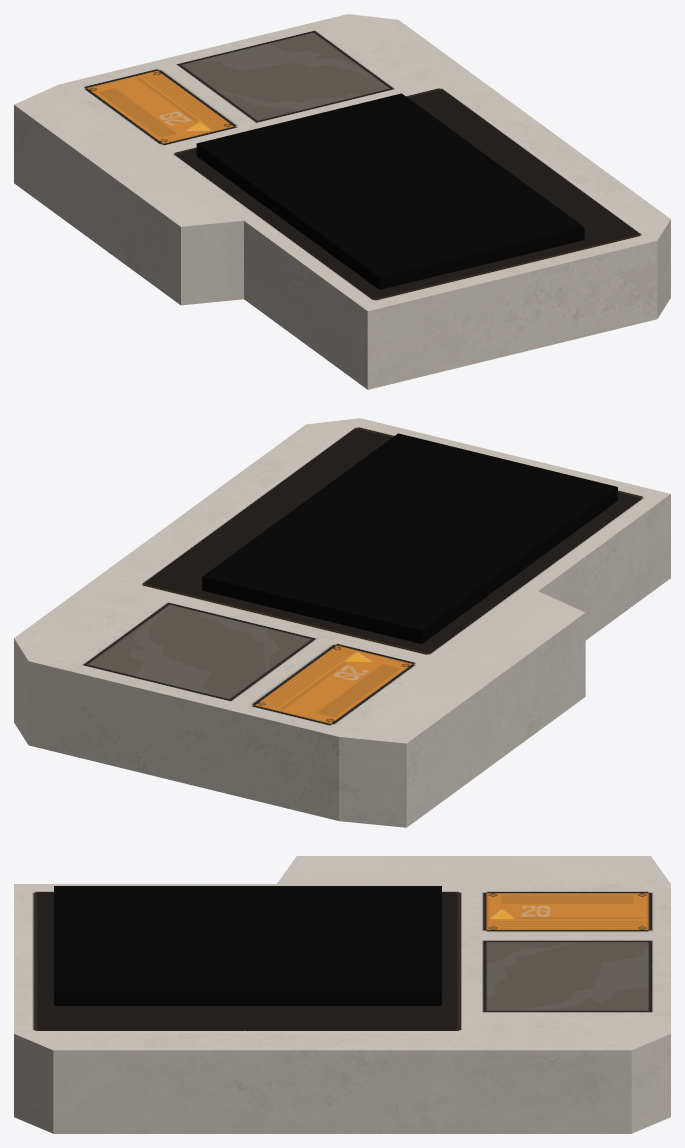
File: personalPad_A.obj
3 renders of one model, top to bottom at view 1: azimuth 30°, elevation 25°; view 2: azimuth 150°, elevation 25°; view 3: azimuth 270°, elevation 25°, orthographic. The views are drawn at different scales.
Visible parts, largest first — view 1: mainBody, Cube; view 2: mainBody, Cube; view 3: mainBody, Cube.
Part boxes in pixels (x1=…): mainBody: x1=14, y1=14, x2=670, y2=389; Cube: x1=196, y1=93, x2=584, y2=289; mainBody: x1=14, y1=418, x2=670, y2=827; Cube: x1=202, y1=433, x2=617, y2=643; mainBody: x1=14, y1=856, x2=670, y2=1133; Cube: x1=54, y1=886, x2=441, y2=1005.
Bounding box in the file's own units: 3.5 × 0.8147 × 5.
Materials: 2 (2 with a texture image).
